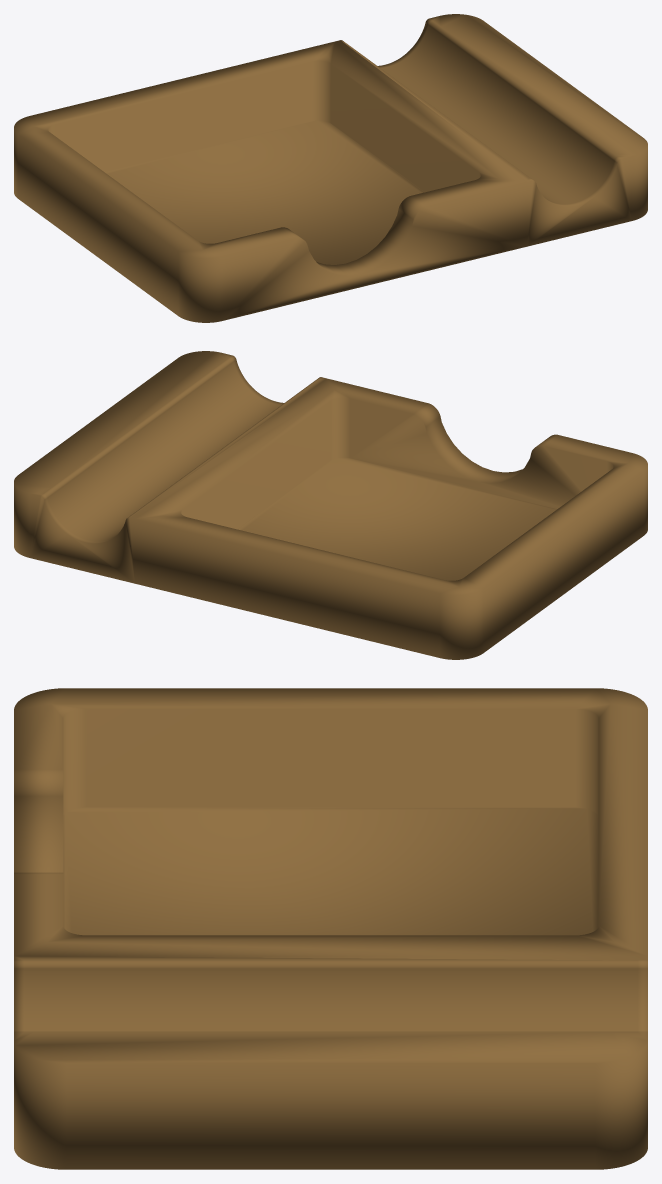
Rendered from NotesOrganizerSmall.glb.
3 renders of one model, top to bottom at view 1: azimuth 30°, elevation 25°; view 2: azimuth 150°, elevation 25°; view 3: azimuth 270°, elevation 25°, orthographic. The views are drawn at different scales.
Visible parts, largest first — view 1: Small Notes Organizer; view 2: Small Notes Organizer; view 3: Small Notes Organizer.
Part boxes in pixels (x1,y1,x2,y2): Small Notes Organizer: (14,14,647,322); Small Notes Organizer: (14,351,647,659); Small Notes Organizer: (14,688,647,1169).
Size of the model in its own units: 140 by 18.58 by 100.
